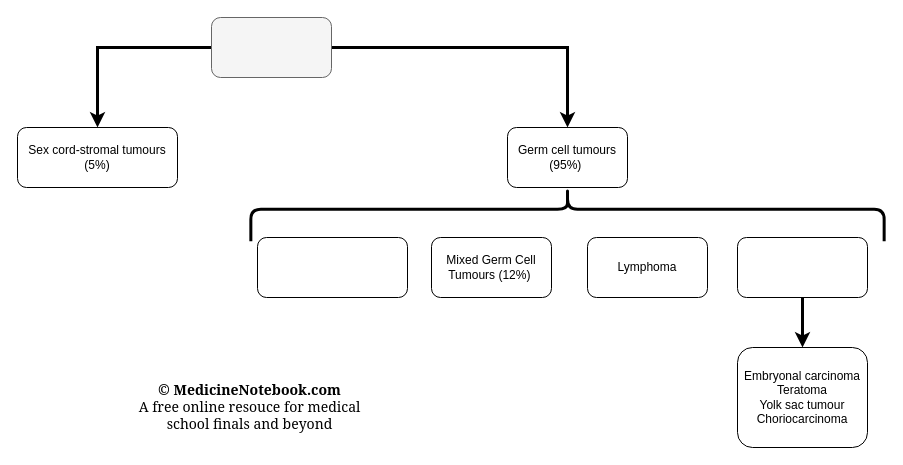
This 903x465 diagram has some shape labels left out. Here are the shapes that lost their labels. From the top down, the box of each, then its label:
(210, 16, 332, 78): Germ cell tumours
(256, 236, 408, 298): Seminomous Germ Cell Tumours (SGCTs) (55%)
(736, 236, 868, 298): Non-seminomous Germ Cell Tumours (NSGCTs) (33%)
